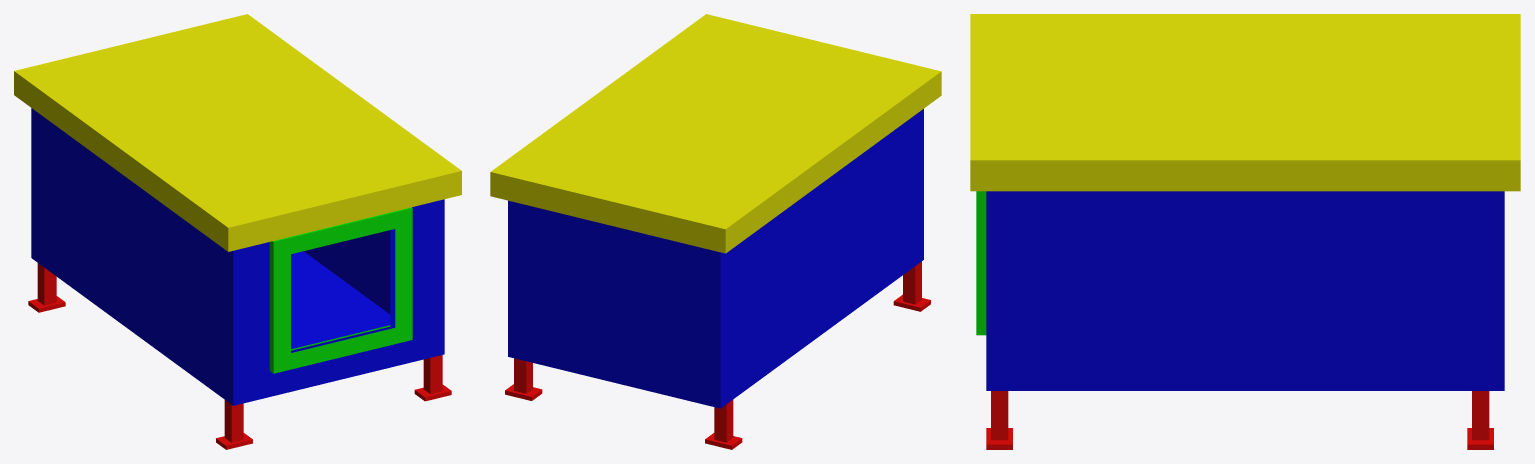
Rendered from incinerator substancee.fbx.
The picture shows the model from 3 angles, left to right: view 1: azimuth 30°, elevation 25°; view 2: azimuth 150°, elevation 25°; view 3: azimuth 270°, elevation 25°; orthographic projection. The views are drawn at different scales.
Visible parts, largest first — view 1: pCube7; view 2: pCube7; view 3: pCube7.
Boxes of the visible parts, box(x1,y1,x2,y2) form: pCube7: box(14, 14, 461, 449); pCube7: box(490, 14, 941, 449); pCube7: box(970, 14, 1520, 449).
Size of the model in its own units: 4.91 by 4.57 by 7.8.
